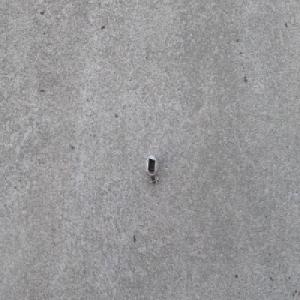MetalPart: (144, 153, 158, 187)
